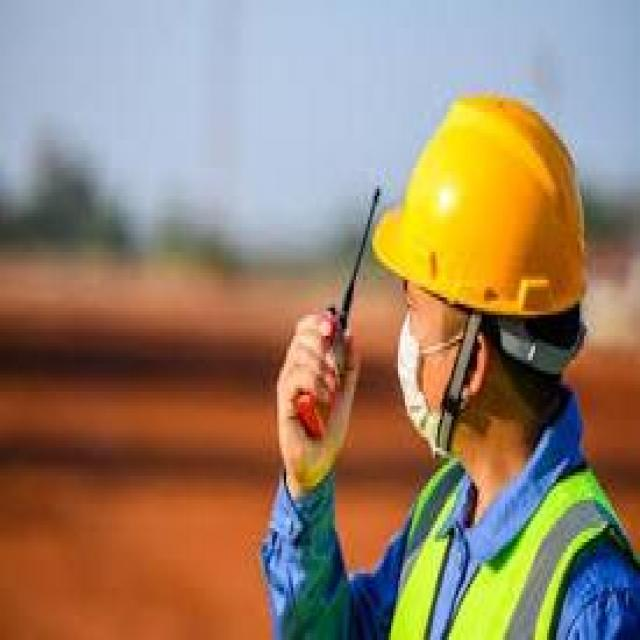Reflective-Jacket: (389, 437, 635, 640)
Safety-Helmet: (368, 88, 596, 332)
